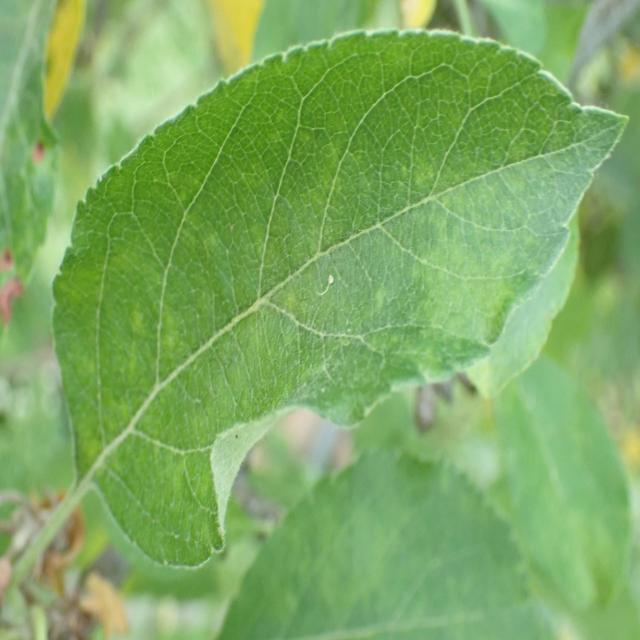scab: (62, 168, 508, 470)
